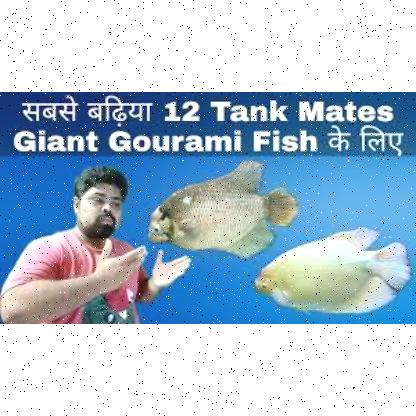gurame: (250, 223, 406, 314), (147, 161, 297, 253)
